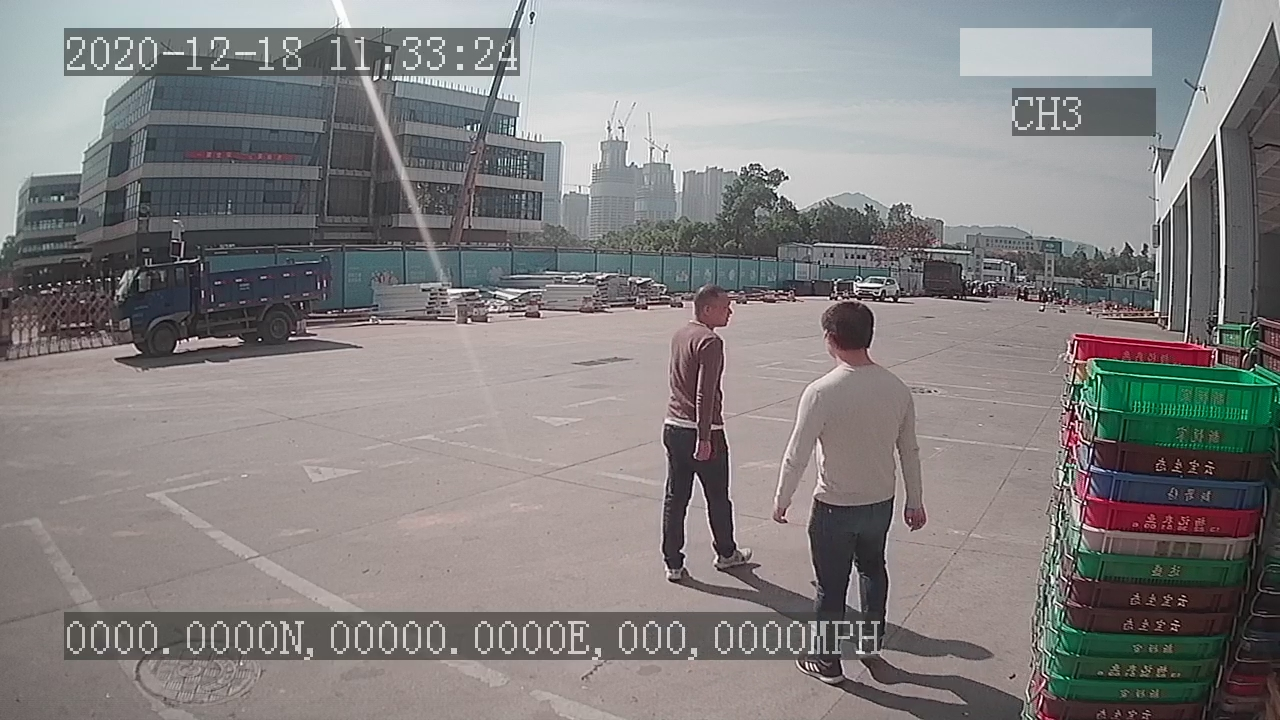person: (653, 282, 757, 581)
